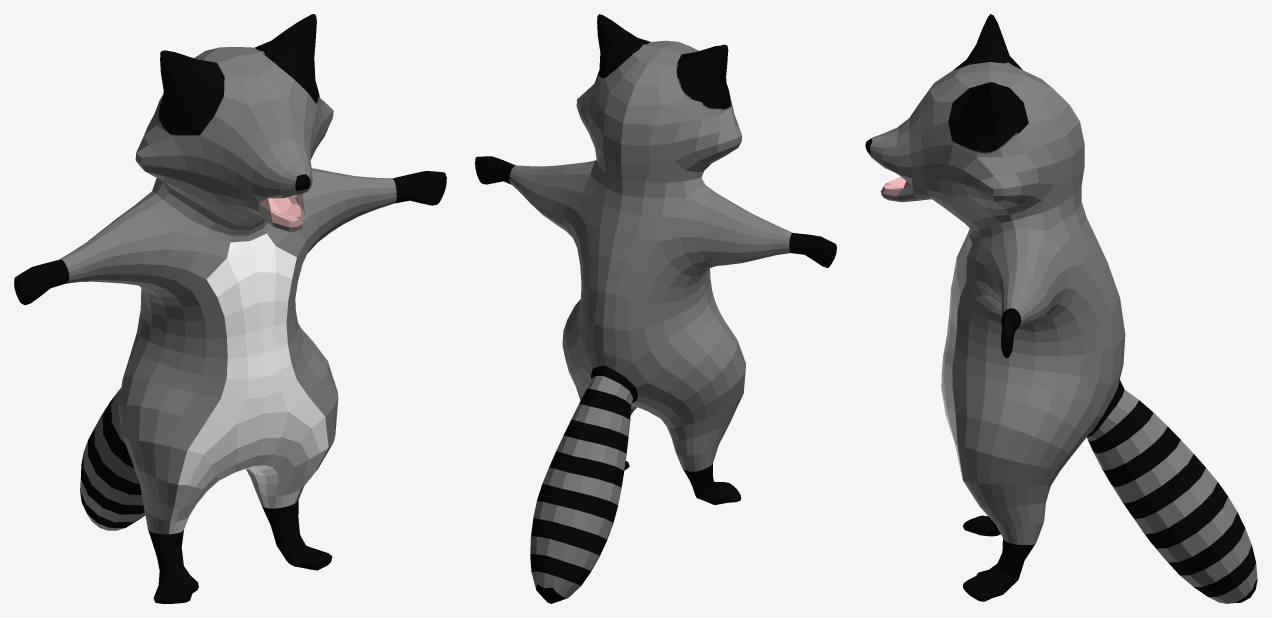
Rendered from Unwrapped_Raccoon.fbx.
The picture shows the model from 3 angles, left to right: view 1: azimuth 30°, elevation 25°; view 2: azimuth 150°, elevation 25°; view 3: azimuth 270°, elevation 25°; orthographic projection. The views are drawn at different scales.
Parts seen in each view (by area): view 1: raccoon:Group35402; view 2: raccoon:Group35402; view 3: raccoon:Group35402.
Part boxes in pixels (x1,y1,x2,y2): raccoon:Group35402: (14,14,446,603); raccoon:Group35402: (475,14,836,603); raccoon:Group35402: (865,14,1257,603).
Bounding box in the file's own units: 2.86 × 3.75 × 2.4.
